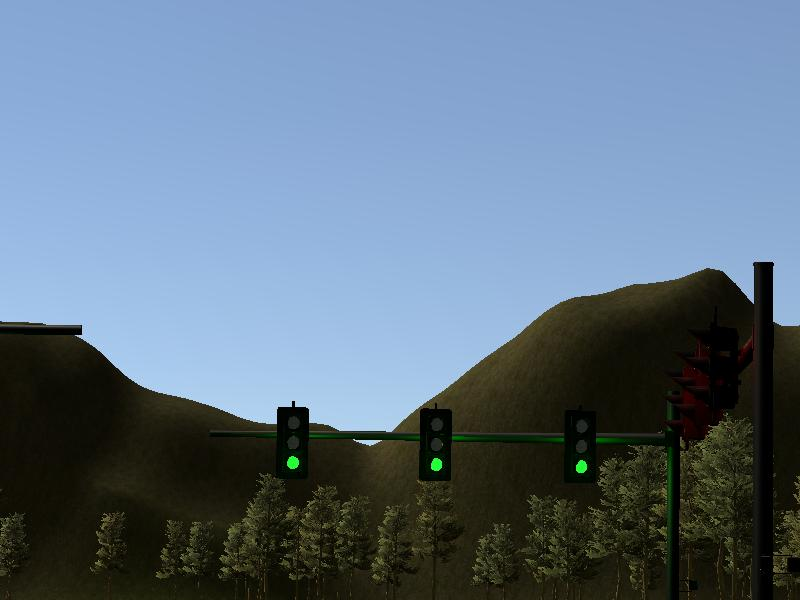Green: (562, 412, 594, 481), (277, 407, 308, 478), (421, 408, 450, 479)
